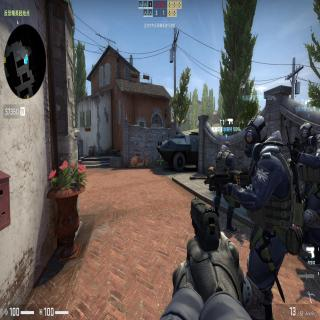CT-Body: (238, 113, 298, 272), (213, 140, 235, 170)
CT-Head: (242, 113, 268, 157), (297, 121, 317, 146), (222, 140, 230, 152)
